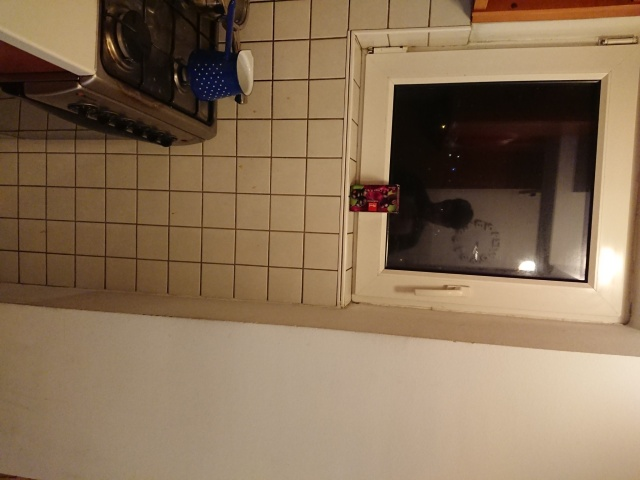Franck Black Currant Tea 60g: (346, 181, 402, 215)
